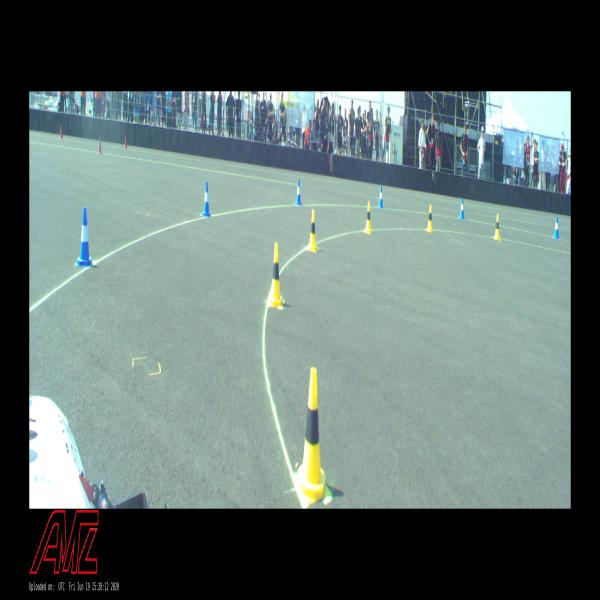blue_cone: (75, 206, 93, 266), (202, 182, 211, 216), (553, 216, 559, 238), (296, 179, 301, 205), (459, 198, 465, 219), (378, 186, 383, 208)
unknown_cone: (97, 137, 102, 154), (59, 124, 63, 140), (125, 134, 127, 149)
yellow_cone: (295, 368, 329, 501), (269, 242, 283, 306), (308, 209, 318, 251), (365, 202, 372, 234), (427, 204, 433, 232), (494, 214, 500, 239)
